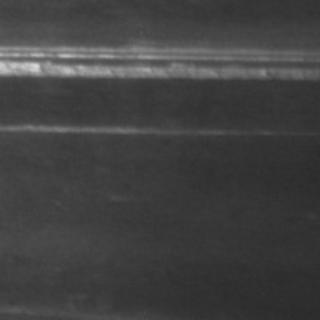scratches: (1, 38, 316, 78), (0, 112, 272, 138)
